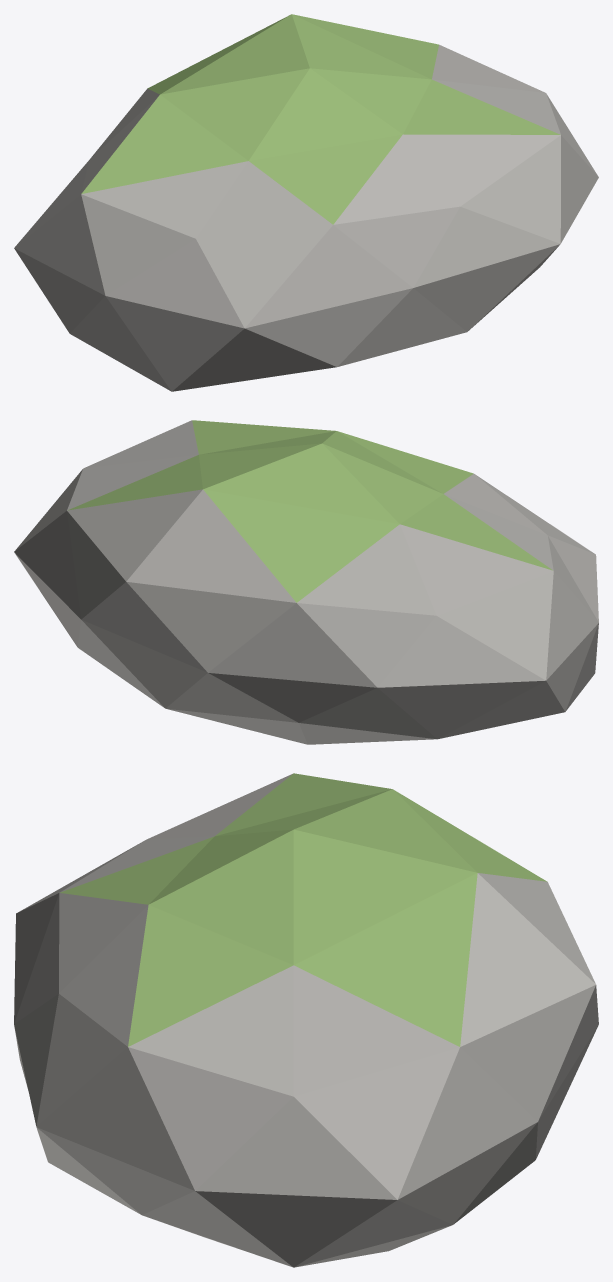
File: Rock_0.fbx
3 renders of one model, top to bottom at view 1: azimuth 30°, elevation 25°; view 2: azimuth 150°, elevation 25°; view 3: azimuth 270°, elevation 25°, orthographic. The views are drawn at different scales.
Parts seen in each view (by area): view 1: Rock_0; view 2: Rock_0; view 3: Rock_0.
Boxes of the visible parts, x1,y1,x2,y2 form: Rock_0: [14, 14, 598, 391]; Rock_0: [14, 420, 598, 744]; Rock_0: [14, 773, 598, 1267].
Bounding box in the file's own units: 2.66 × 1.36 × 1.9.
